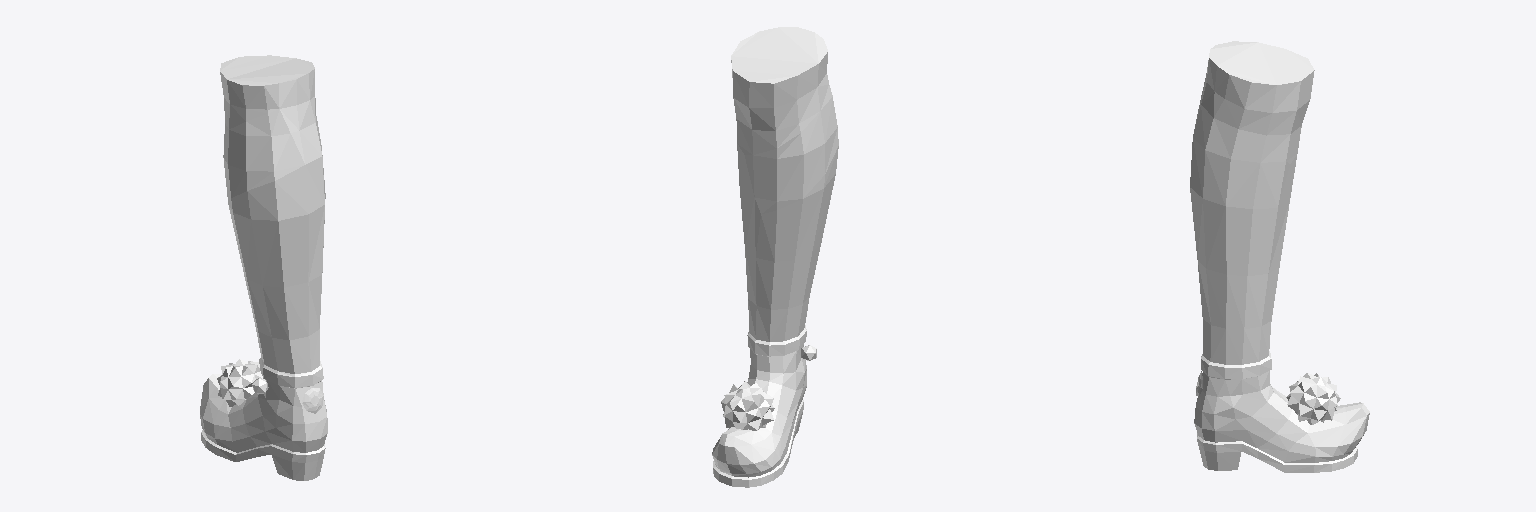
Rendered from qiqi_pantorrilla_izq.obj.
3 views of the same model, side by side, from view 1: azimuth 30°, elevation 25°; view 2: azimuth 150°, elevation 25°; view 3: azimuth 270°, elevation 25° (orthographic).
Parts seen in each view (by area): view 1: 七七_mesh_七七.010; view 2: 七七_mesh_七七.010; view 3: 七七_mesh_七七.010.
Part boxes in pixels (left/top/right/bottom): 七七_mesh_七七.010: left=200, top=55, right=327, bottom=480; 七七_mesh_七七.010: left=712, top=27, right=838, bottom=487; 七七_mesh_七七.010: left=1190, top=41, right=1369, bottom=472.
Size of the model in its own units: 0.8978 by 4.07 by 1.65.